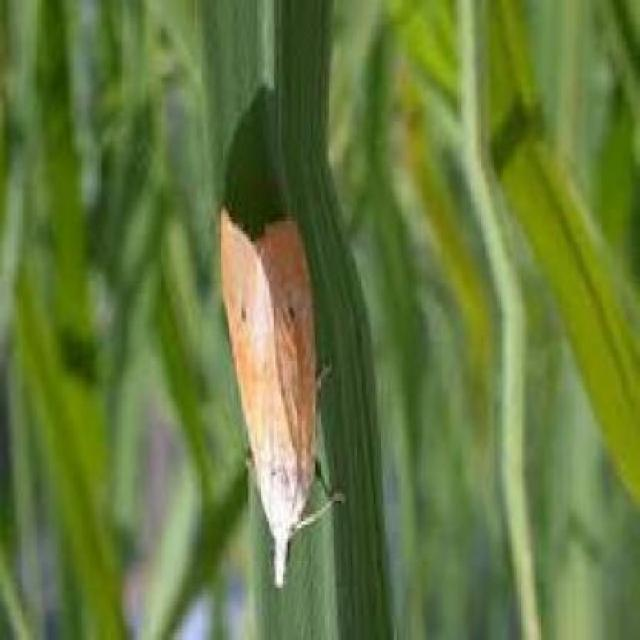stem-borer: (217, 205, 345, 590)
